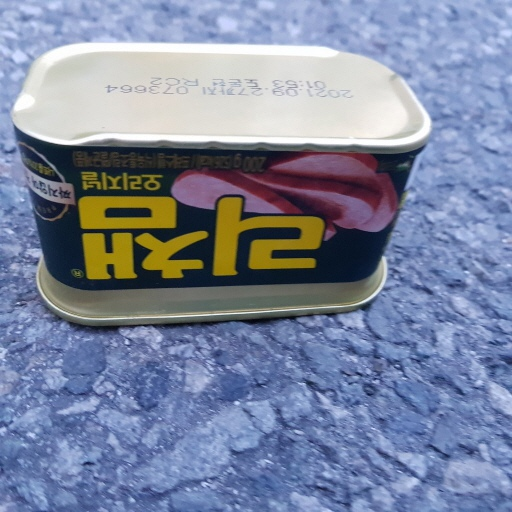Metal_2: (9, 39, 434, 329)
